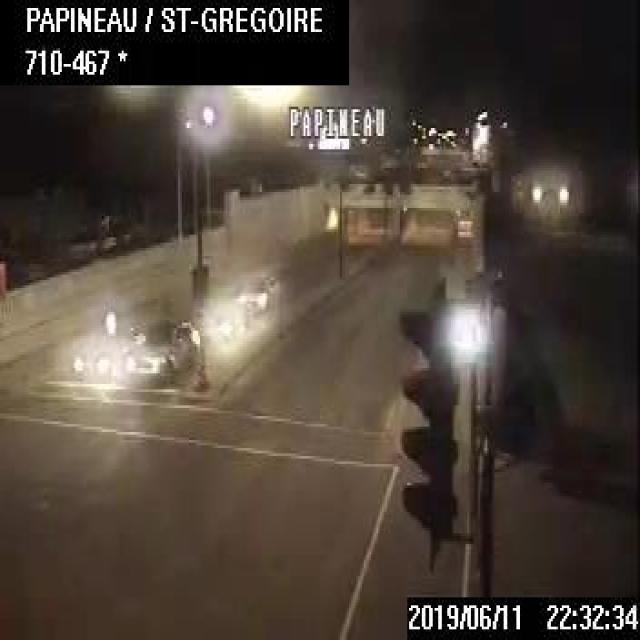vehicle: (124, 314, 198, 378), (68, 332, 122, 383), (232, 269, 272, 312)
